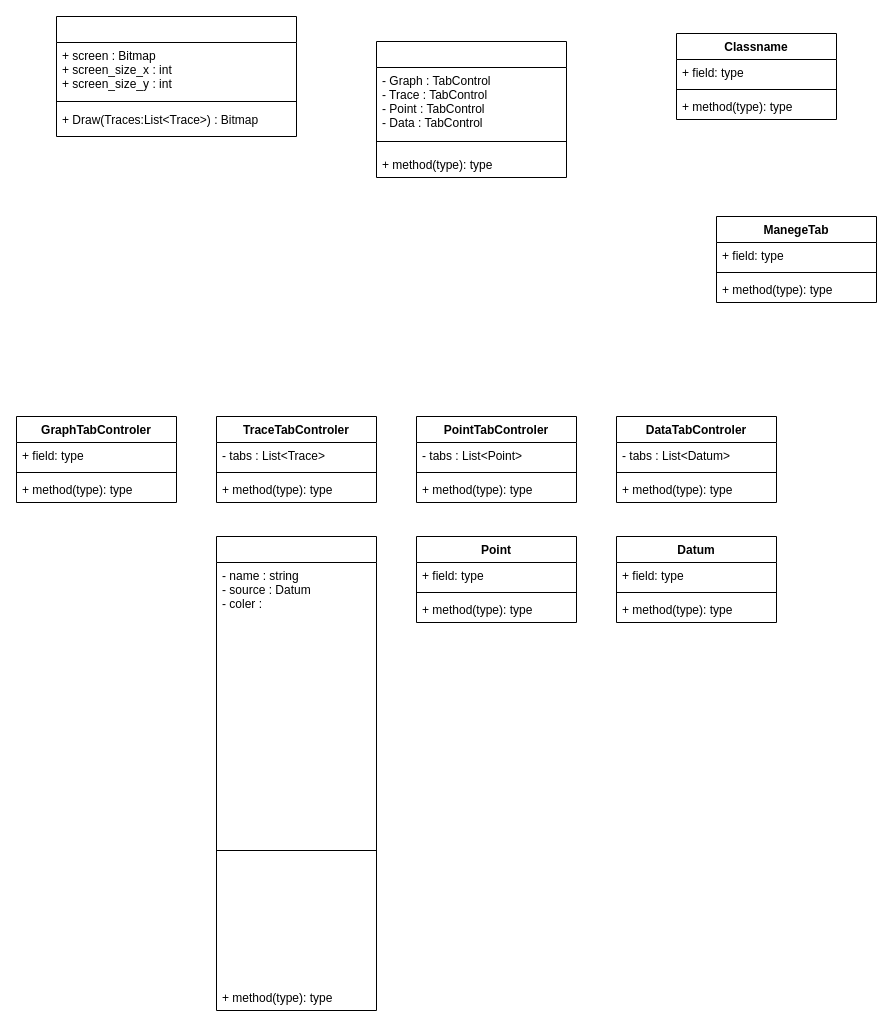
The diagram is 893 pixels wide and 1027 high, and some of its shapes have lost their labels. The box of each missing label's shape, as (x1, y1, x2, y2) in pixels:
Operation Window Form: (376, 40, 566, 178)
Preview Window Form: (56, 16, 296, 136)
Trace: (216, 536, 376, 1010)
